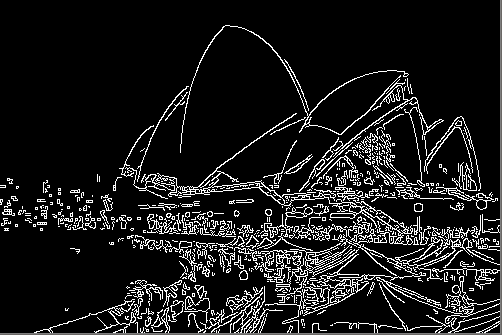opera house: (102, 11, 482, 200)
